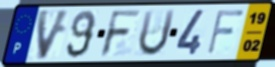4: (174, 8, 205, 58)
9: (65, 9, 97, 60)
F: (98, 9, 144, 59), (205, 8, 247, 56)
U: (136, 8, 178, 59)
V: (36, 8, 73, 62)
